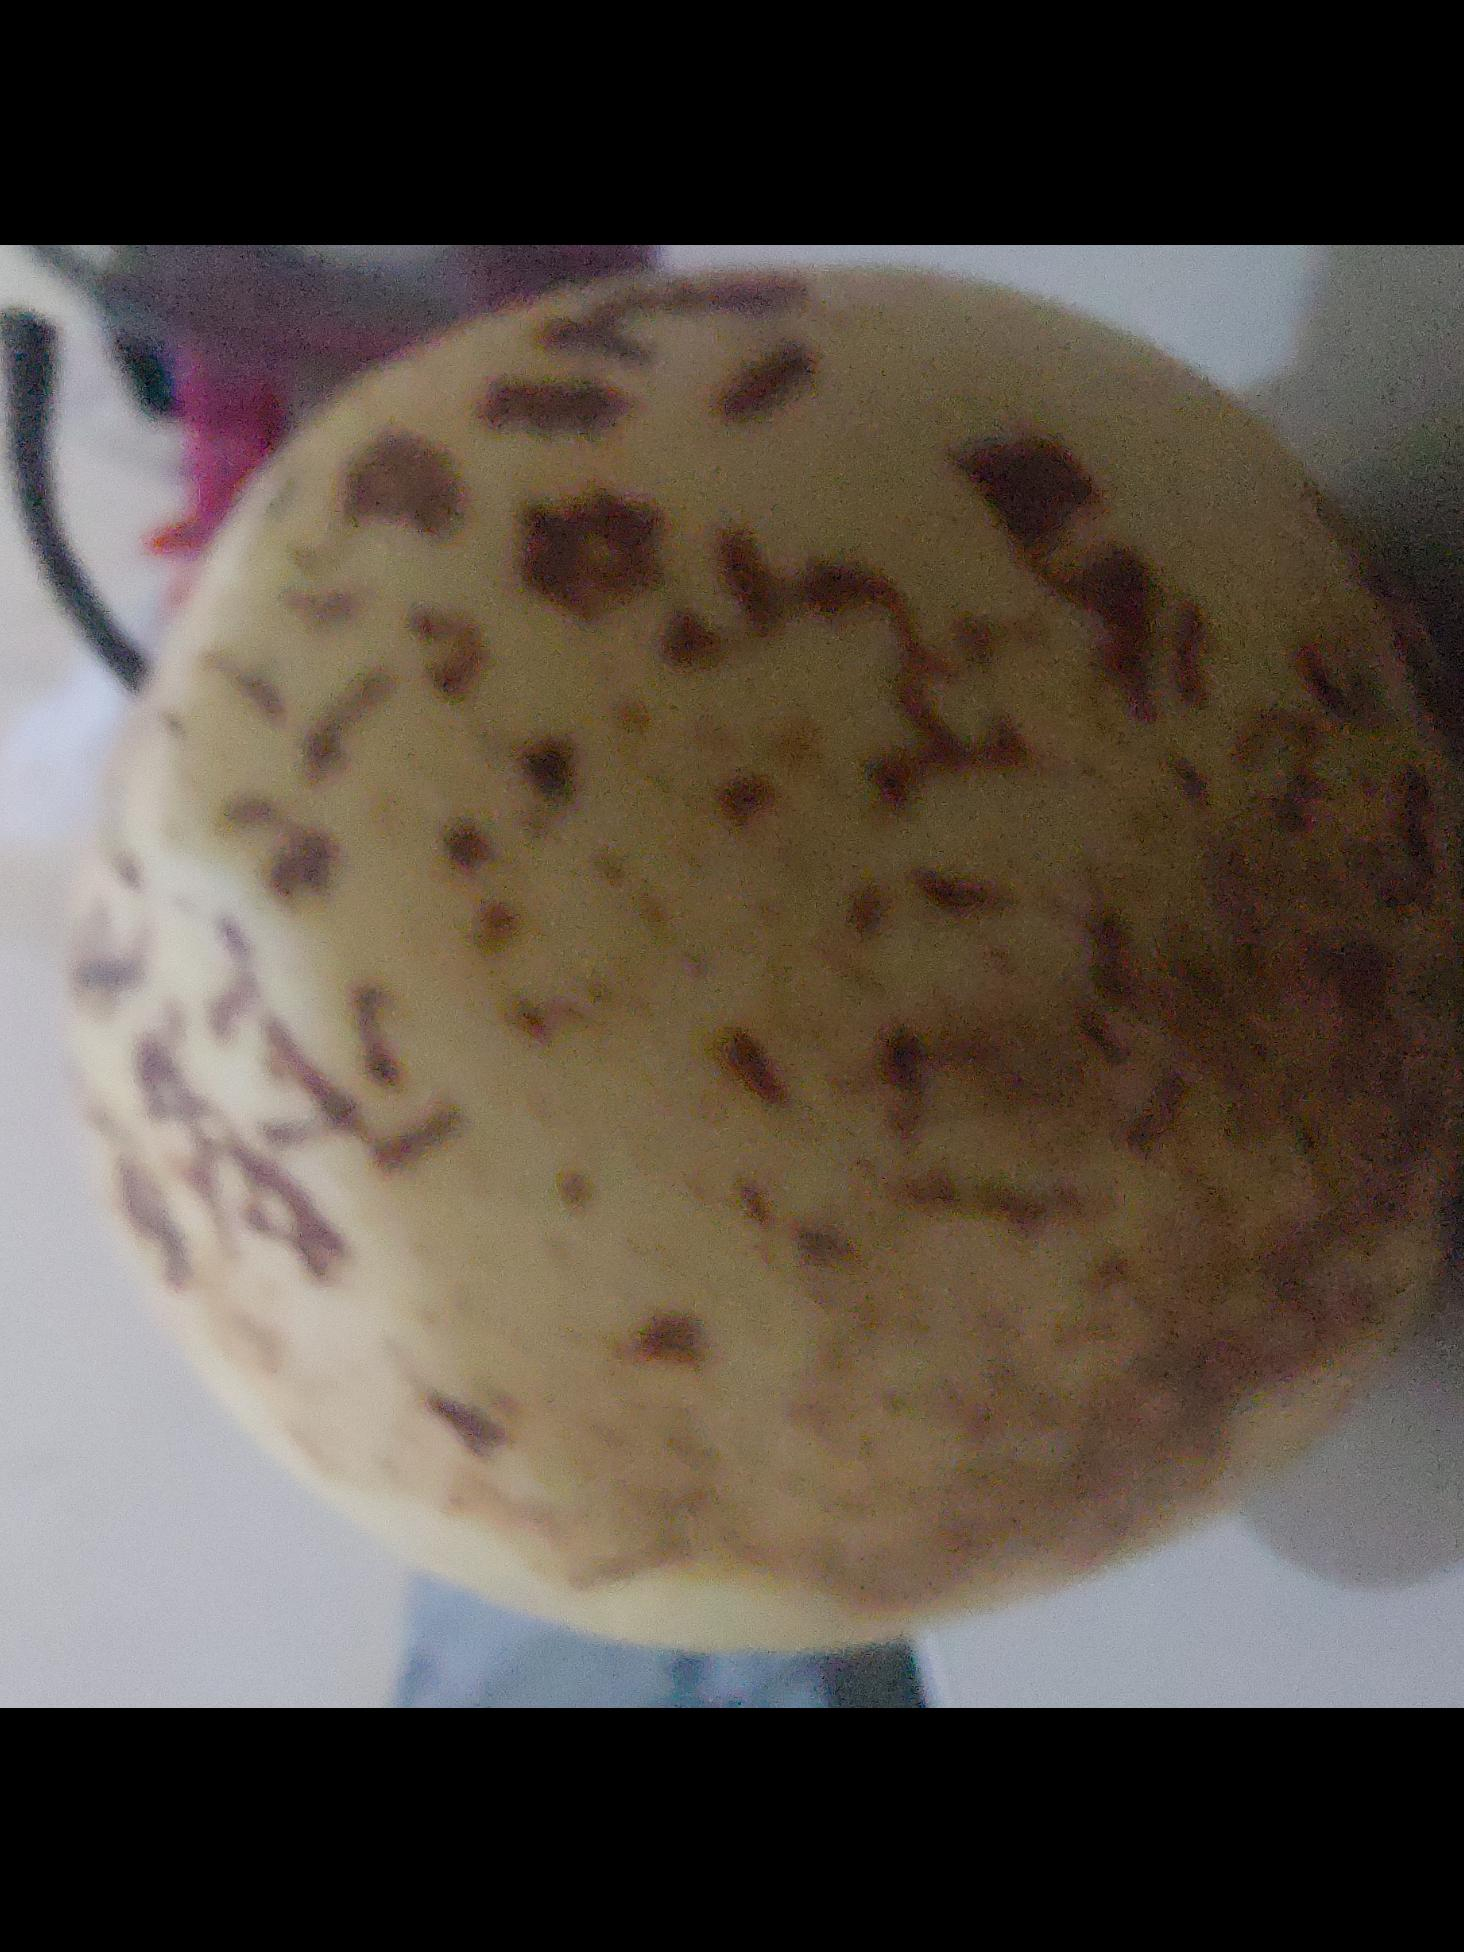Bad Pear: (71, 294, 1464, 1575)
